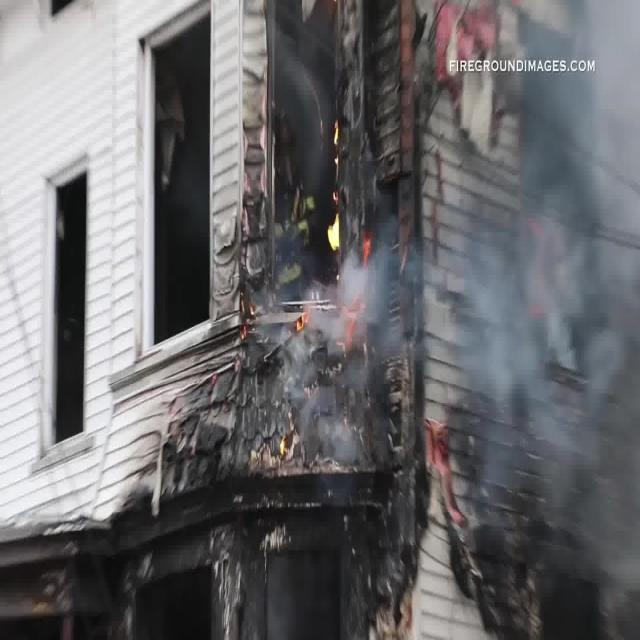Fire: (273, 222, 373, 453)
Smoke: (333, 0, 640, 459)
